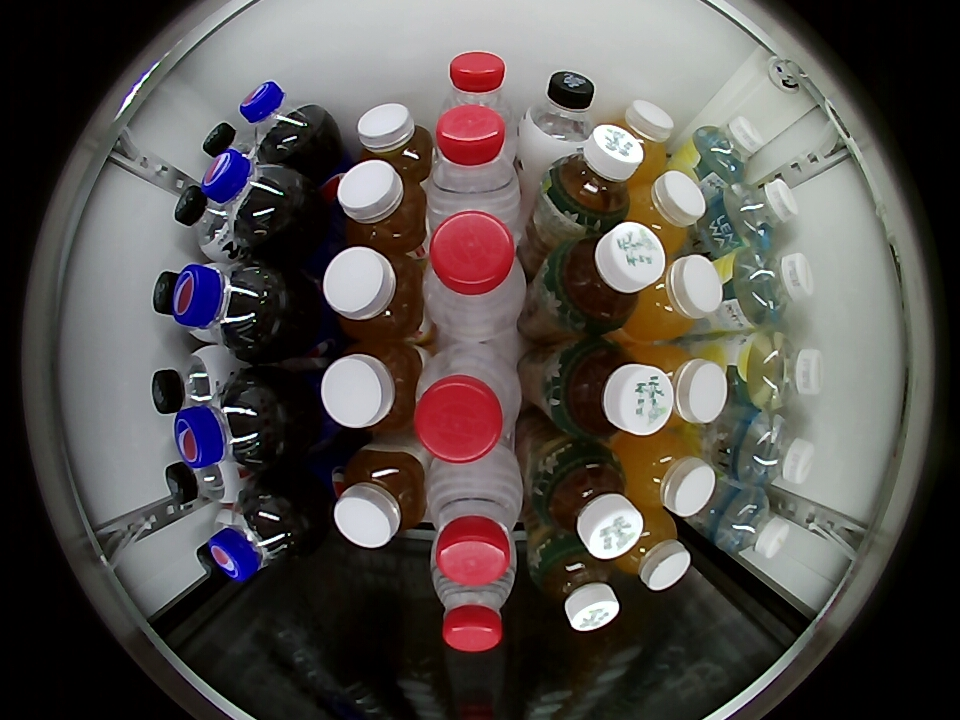baishikele-2: (174, 259, 280, 356), (202, 149, 302, 251), (175, 375, 280, 471), (207, 485, 308, 580), (239, 80, 328, 162)
chapai: (323, 246, 427, 341), (332, 446, 428, 548), (320, 343, 424, 431), (336, 160, 427, 253), (356, 103, 433, 181)
lingdukele-b: (153, 265, 197, 332), (203, 123, 255, 163)
moliqingcha: (548, 221, 666, 333), (533, 442, 644, 559), (553, 338, 673, 440), (542, 125, 643, 229), (532, 538, 620, 631)
nongfushanquan: (424, 211, 525, 339), (427, 454, 524, 586), (414, 345, 520, 463), (430, 105, 521, 216), (432, 563, 514, 652), (443, 51, 510, 123)
qinningshui: (731, 248, 814, 327), (742, 331, 825, 410), (733, 412, 815, 486), (711, 486, 791, 559), (720, 177, 799, 247), (690, 116, 764, 185)
weic: (618, 432, 717, 517), (627, 255, 723, 341), (637, 345, 727, 429), (623, 171, 706, 256), (610, 510, 691, 591), (608, 99, 674, 178)
yuanqishui: (522, 71, 596, 152), (152, 347, 229, 415), (174, 184, 236, 257), (165, 455, 241, 507), (197, 507, 232, 580)
